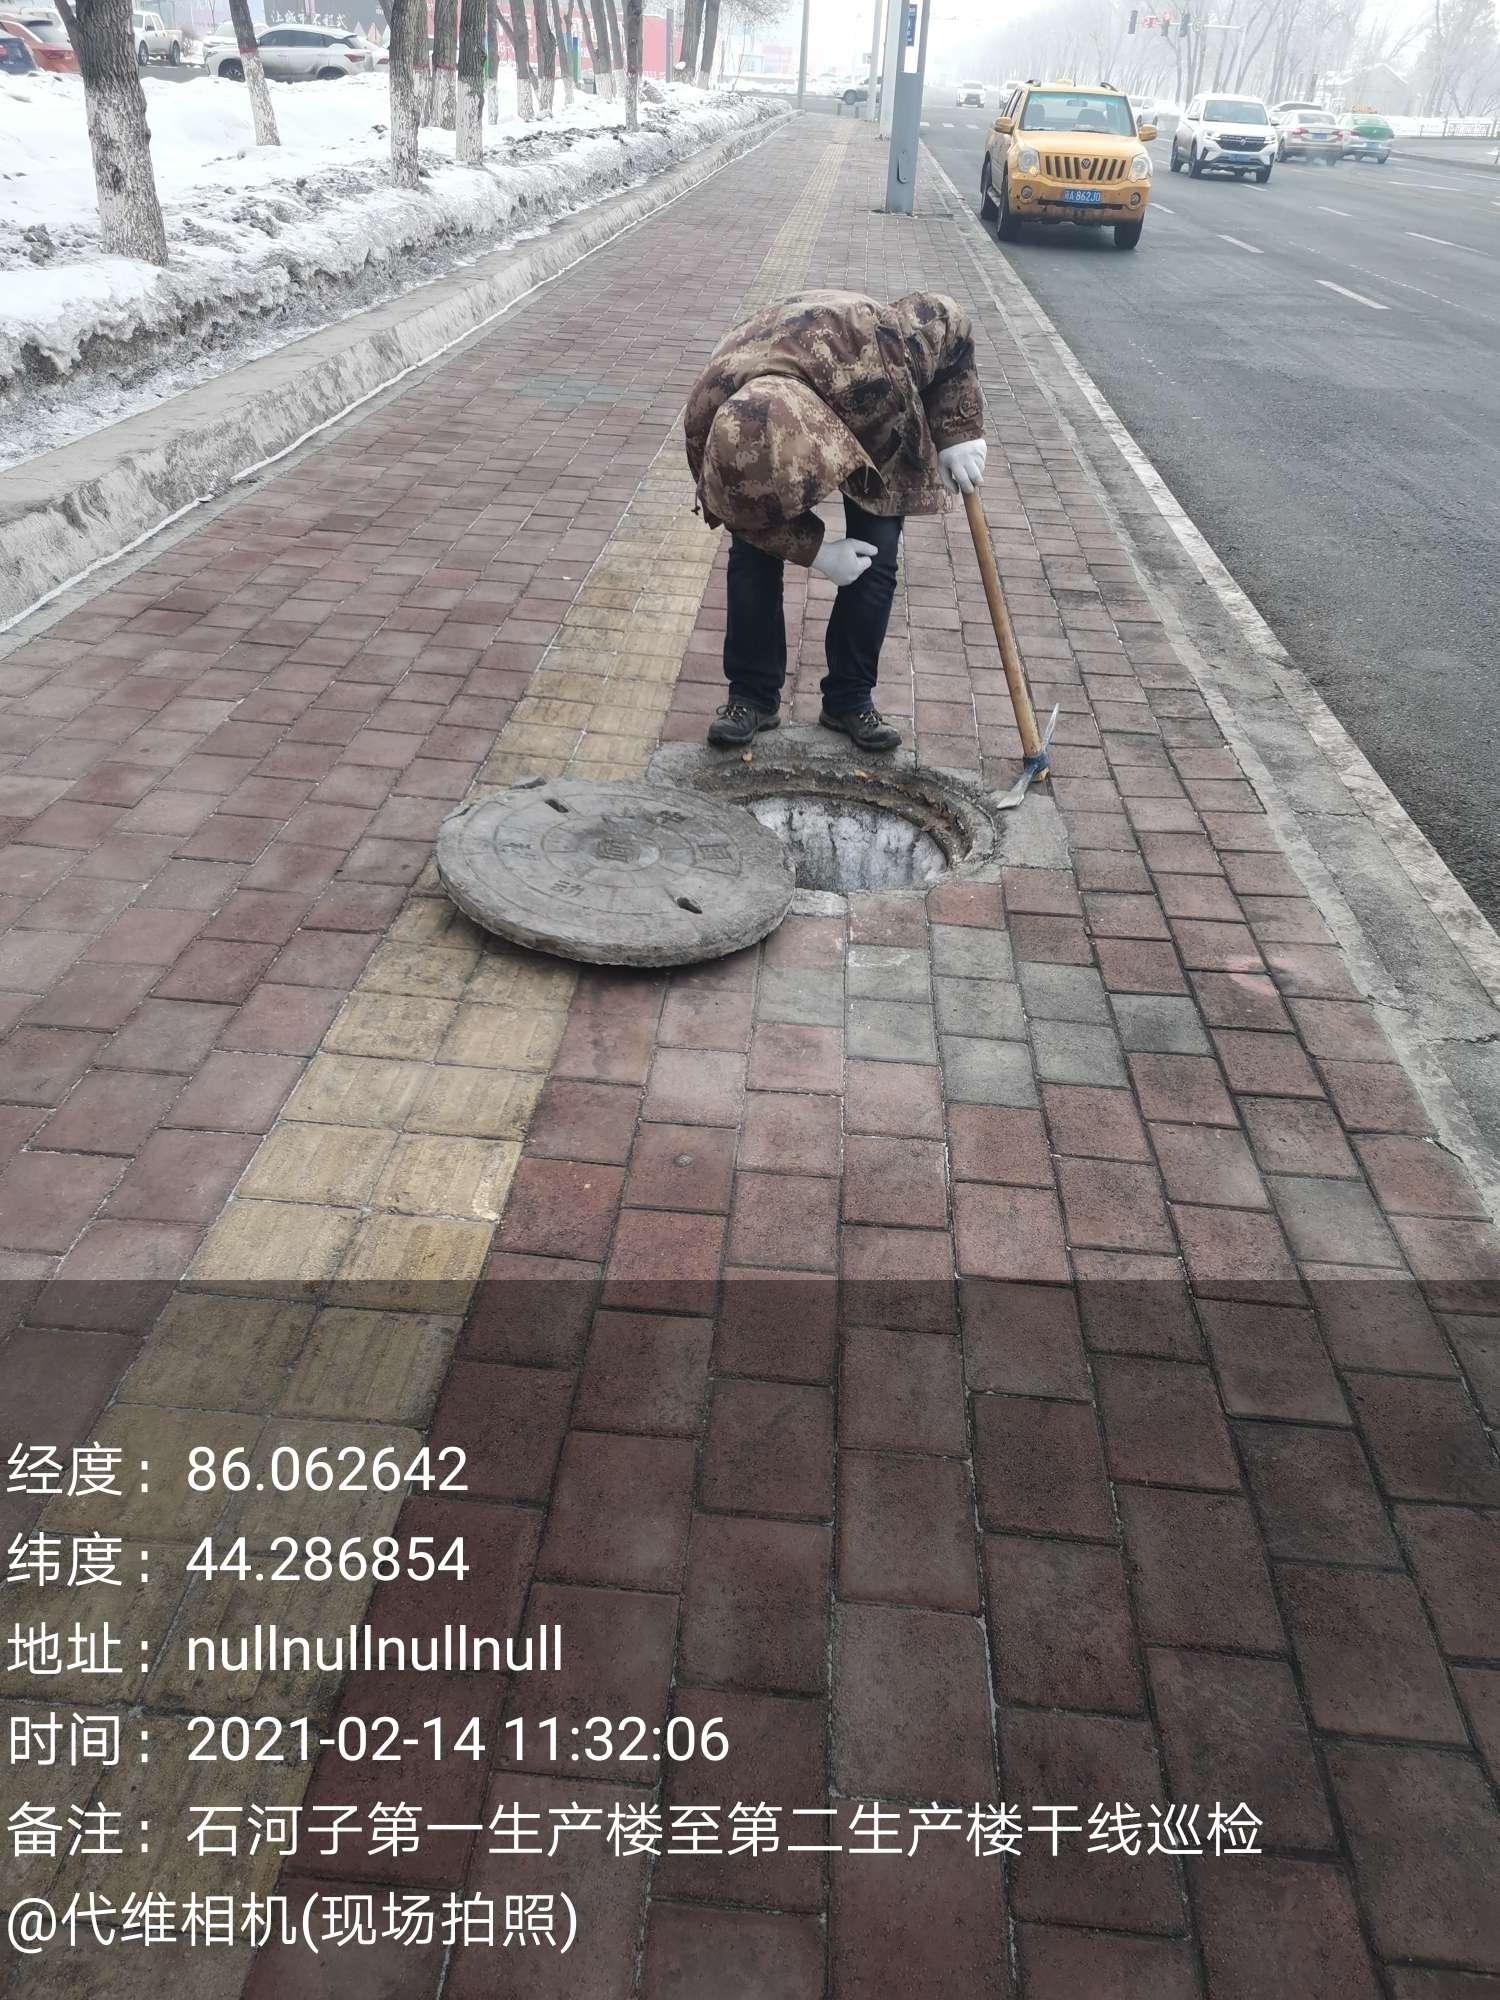wellcover: (422, 737, 1001, 1006)
